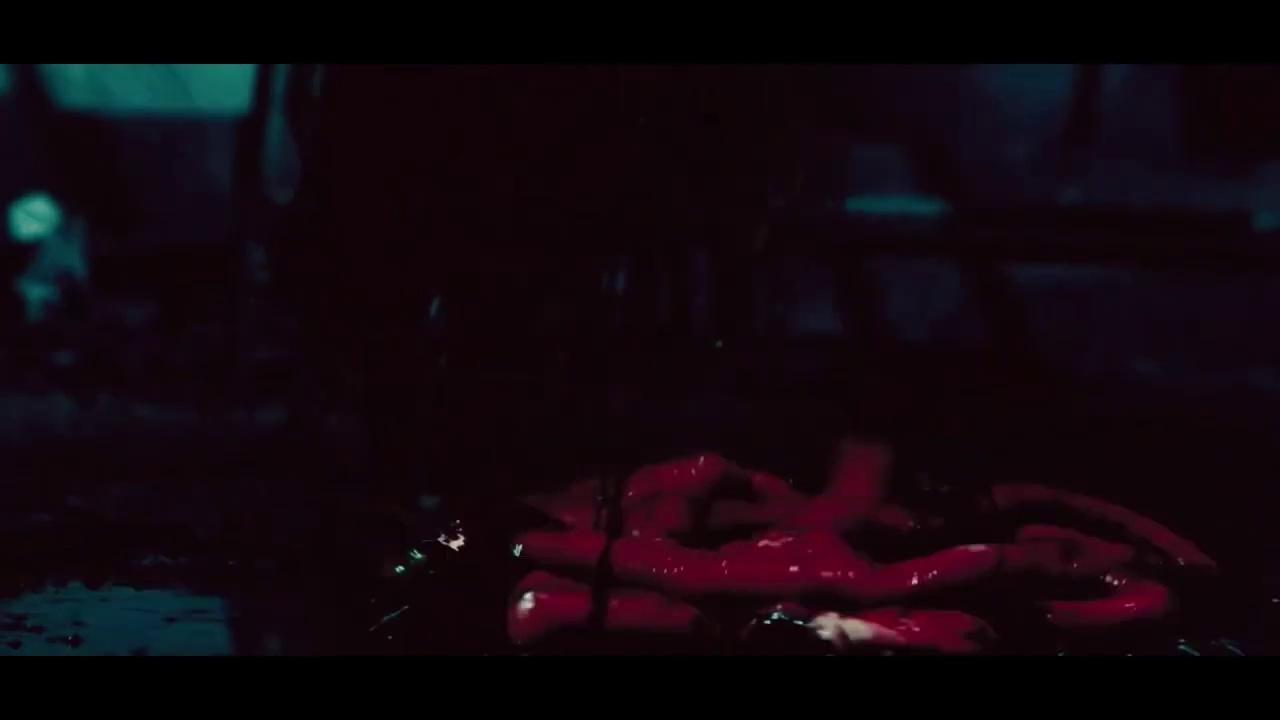Fire: (364, 445, 1257, 656)
